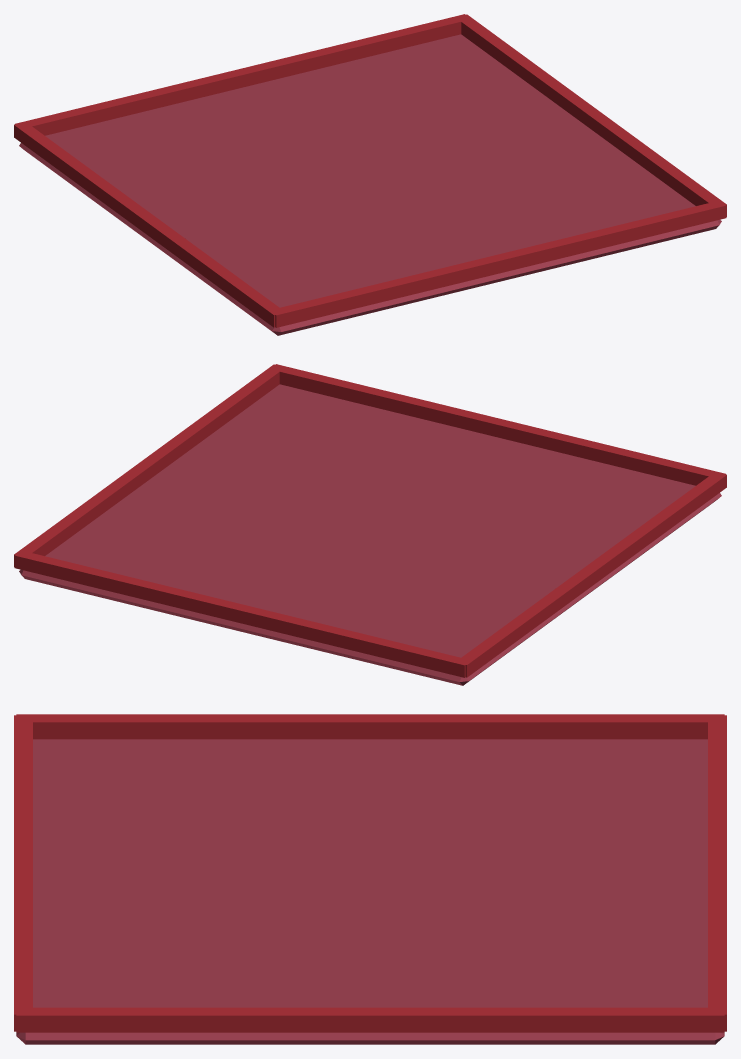
Rendered from residual.glb.
3 views of the same model, one above another, from view 1: azimuth 30°, elevation 25°; view 2: azimuth 150°, elevation 25°; view 3: azimuth 270°, elevation 25° (orthographic). The views are drawn at different scales.
Parts seen in each view (by area): view 1: Body_mesh; view 2: Body_mesh; view 3: Body_mesh.
Boxes of the visible parts, <box> form: Body_mesh: <box>14,14,726,335</box>; Body_mesh: <box>14,364,726,685</box>; Body_mesh: <box>14,714,726,1044</box>.
Bounding box in the file's own units: 0.302 × 0.016 × 0.302.
